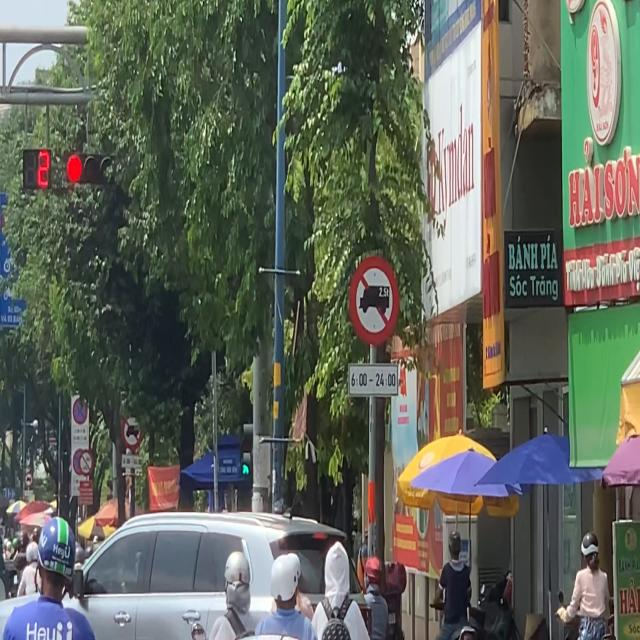Cam con lai: (351, 255, 400, 343), (122, 417, 142, 451)
Cam dung va do: (72, 395, 88, 426)
